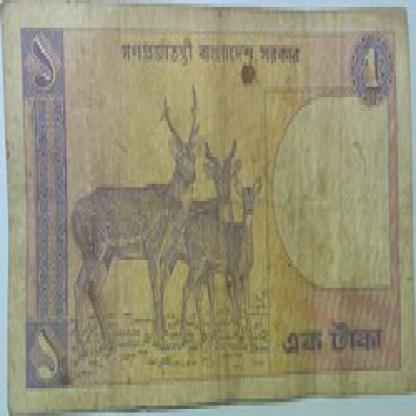One Taka: (278, 319, 384, 360), (22, 28, 65, 97), (29, 322, 68, 388), (360, 38, 384, 94)
